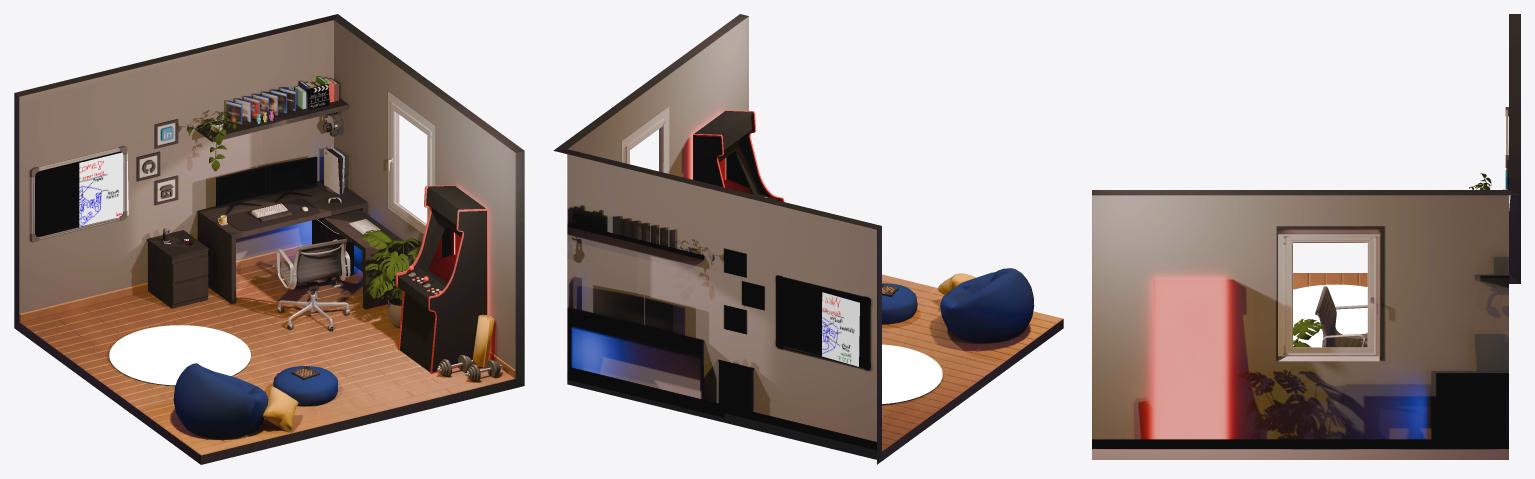
File: unified_room_backup.glb
3 renders of one model, left to right at view 1: azimuth 30°, elevation 25°; view 2: azimuth 150°, elevation 25°; view 3: azimuth 270°, elevation 25°, orthographic. The views are drawn at different scales.
Visible parts, largest first — view 1: BAKED_1, BAKED_2, ArcadeMachine, BAKED_3, Carpet, Whiteboard_Canvas, BAKED_2.001, RightMonitor, LeftMonitor, Whiteboard, Linkedin, Itchio (+1 smaller); view 2: BAKED_1, ArcadeMachine, Carpet, Whiteboard_Canvas; view 3: BAKED_1, Carpet, BAKED_2.001, BAKED_3.
Boxes of the visible parts, x1,y1,x2,y2 form: BAKED_1: [14, 14, 524, 464]; BAKED_2: [147, 98, 494, 367]; ArcadeMachine: [395, 185, 487, 373]; BAKED_3: [160, 76, 501, 381]; Carpet: [109, 325, 250, 385]; Whiteboard_Canvas: [79, 151, 128, 226]; BAKED_2.001: [272, 238, 350, 294]; RightMonitor: [265, 156, 317, 202]; LeftMonitor: [216, 166, 265, 214]; Whiteboard: [30, 146, 127, 241]; Linkedin: [154, 119, 178, 148]; Itchio: [154, 175, 178, 205]; BAKED_1: [553, 14, 1063, 464]; ArcadeMachine: [693, 110, 784, 201]; Carpet: [882, 344, 942, 403]; Whiteboard_Canvas: [822, 292, 859, 366]; BAKED_1: [1092, 14, 1520, 459]; Carpet: [1293, 284, 1367, 347]; BAKED_2.001: [1315, 286, 1367, 347]; BAKED_3: [1293, 173, 1491, 347].
Size of the model in its own units: 9.36 by 6.5 by 9.36.
12 materials, 4 textured.
